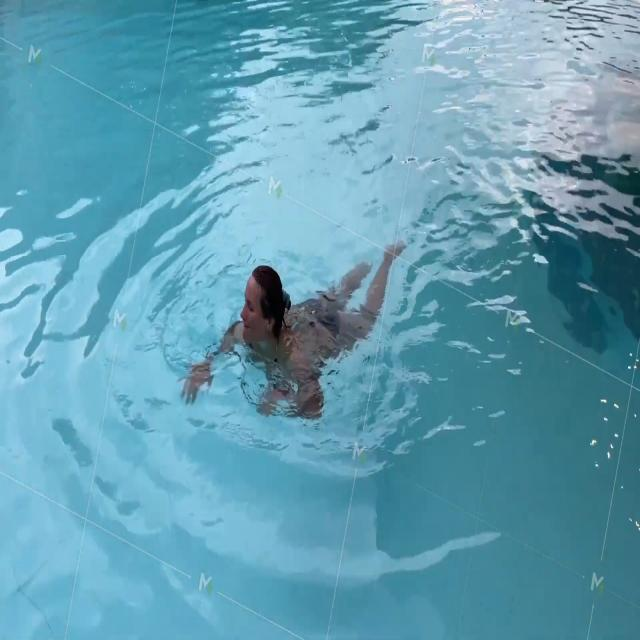swimming: (174, 235, 430, 441)
